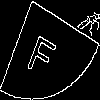F: (25, 25, 61, 79)
